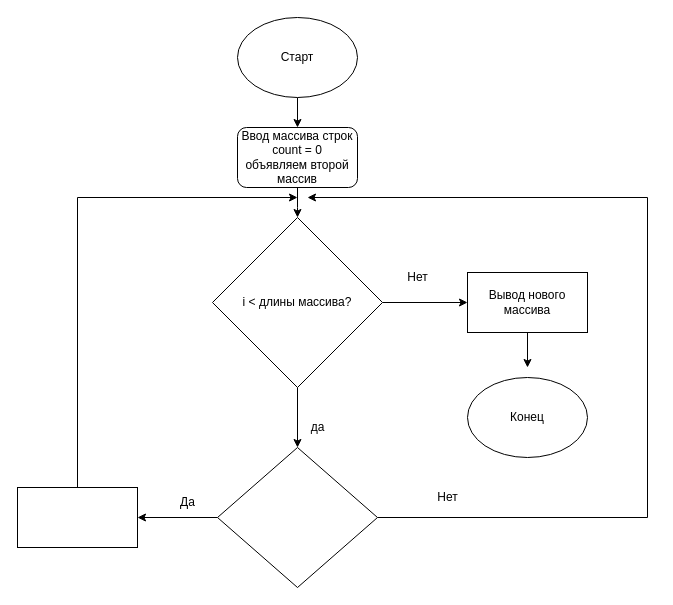
The diagram is 673 pixels wide and 605 high, and some of its shapes have lost their labels. The shapes that lost their labels are listed below. From the top down, each one's centre as x and y in pixels, then its label:
At point 77,517: "Копируем элемент в новый массив count ++".
At point 297,517: "Length <= 3?".
